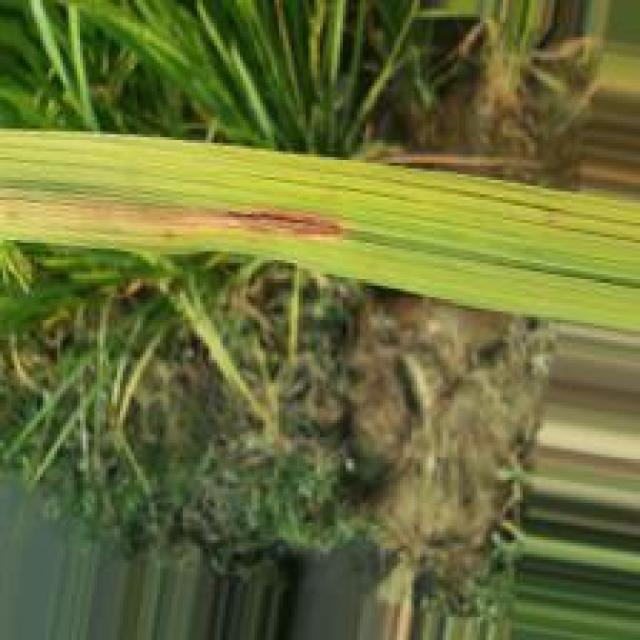Rice Tungro: (208, 205, 350, 241)
